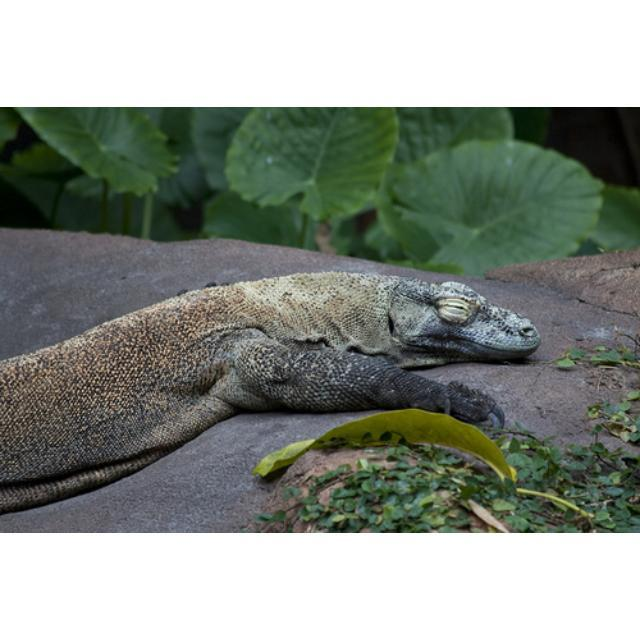KomodoDragon: (0, 272, 536, 516)
